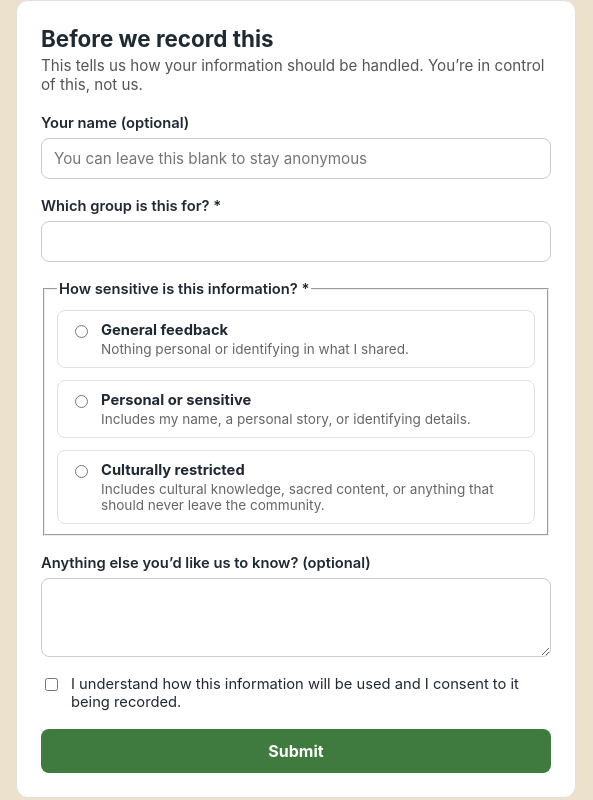
Test: ConsentCaptureForm validation (Sub Task 22.2) › does not submit if consent checkbox is unchecked
Type "Youth Group A" into the field labelled "Which group is this for? *" at (296, 242), box [41,221,551,262]
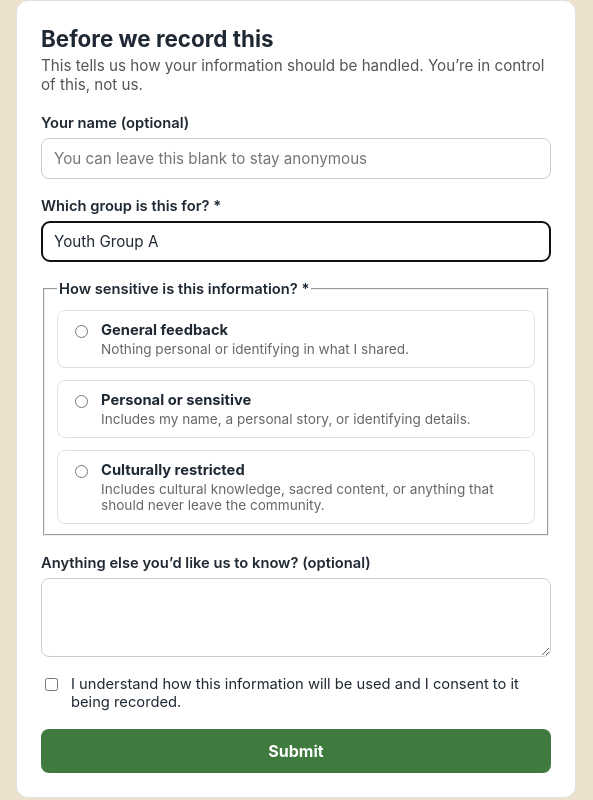
Click the radio button labelled "General feedback" at (82, 331), box [75,325,88,338]
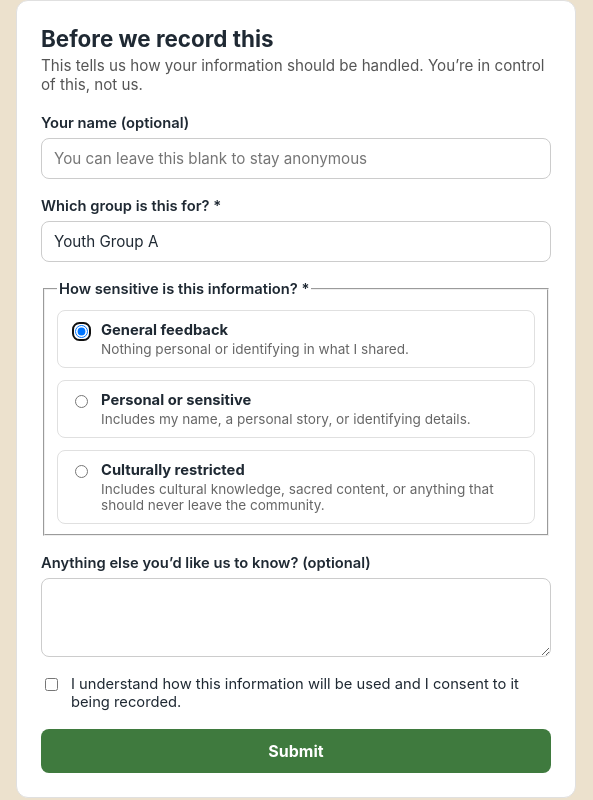
Click the button "Submit" at (296, 751), box [41,729,551,773]
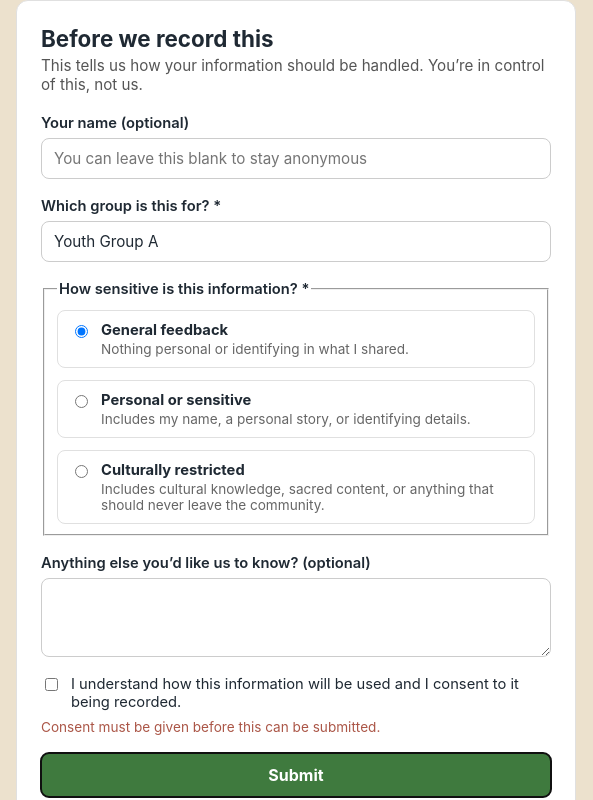
expect the text "Consent must be given before this can be submitted." is shown: met, box [41,719,380,735]
